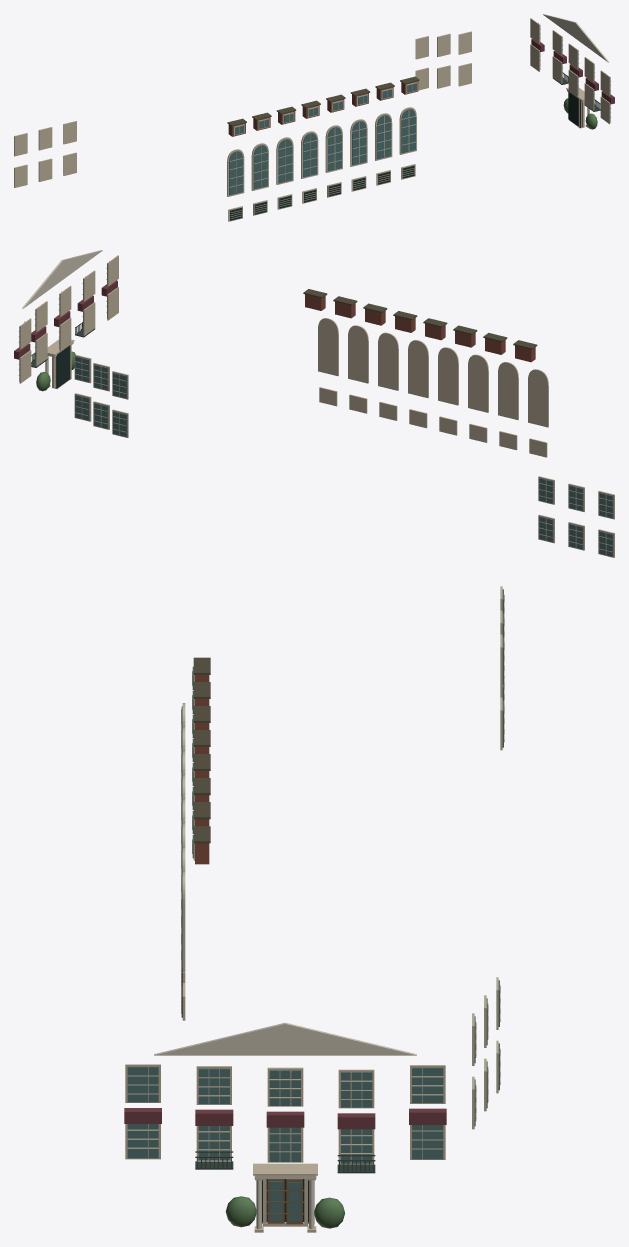
Rendered from gerlinger-entry-portico-overlay-2026-11-04.glb.
The picture shows the model from 3 angles, top to bottom: view 1: azimuth 30°, elevation 25°; view 2: azimuth 150°, elevation 25°; view 3: azimuth 270°, elevation 25°; orthographic projection. The views are drawn at different scales.
Parts seen in each view (by area): view 1: gerlinger-part-0; view 2: gerlinger-part-0; view 3: gerlinger-part-0, gerlinger-part-1.
Part boxes in pixels (box(x1,y1,x2,y2)): gerlinger-part-0: box(14, 14, 614, 221); gerlinger-part-0: box(14, 250, 614, 557); gerlinger-part-0: box(124, 586, 504, 1232); gerlinger-part-1: box(225, 1196, 344, 1228).
Size of the model in its own units: 83.9 by 16.27 by 26.73.
